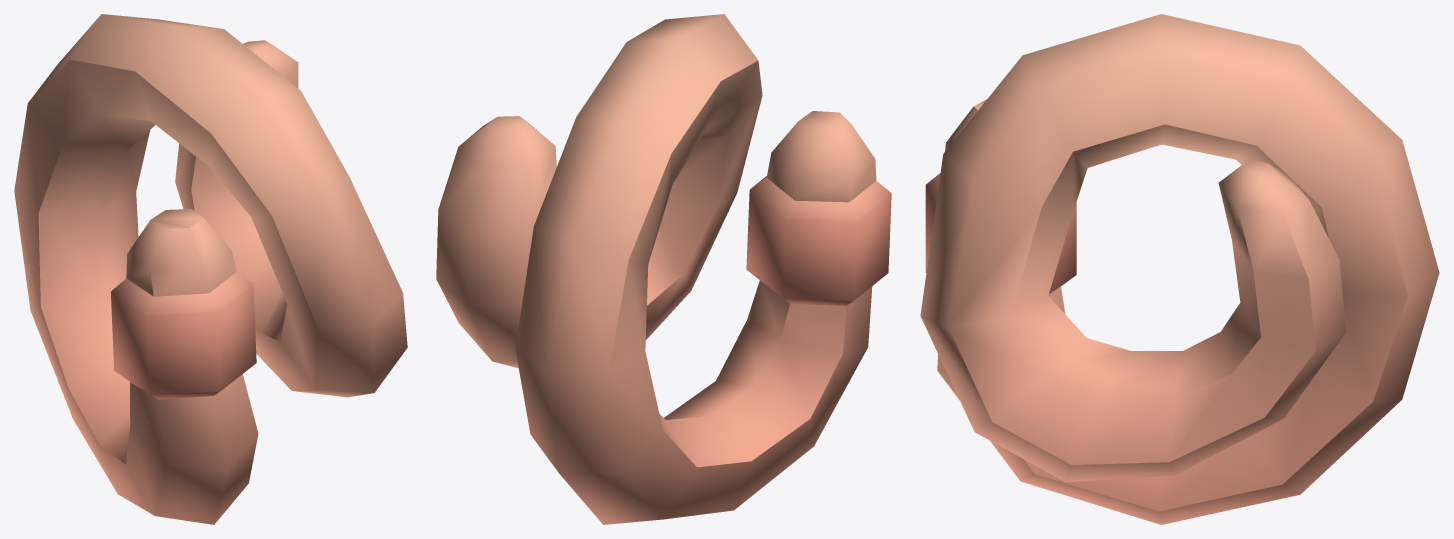
Rendered from fishing_worm.obj.
The picture shows the model from 3 angles, left to right: view 1: azimuth 30°, elevation 25°; view 2: azimuth 150°, elevation 25°; view 3: azimuth 270°, elevation 25°; orthographic projection. The views are drawn at different scales.
Visible parts, largest first — view 1: fishing_worm; view 2: fishing_worm; view 3: fishing_worm.
Part boxes in pixels (x1,y1,x2,y2): fishing_worm: (14,14,407,524); fishing_worm: (436,14,891,524); fishing_worm: (920,14,1439,524).
Bounding box in the file's own units: 0.1435 × 0.2199 × 0.2023.
Materials: 1 (1 with a texture image).
